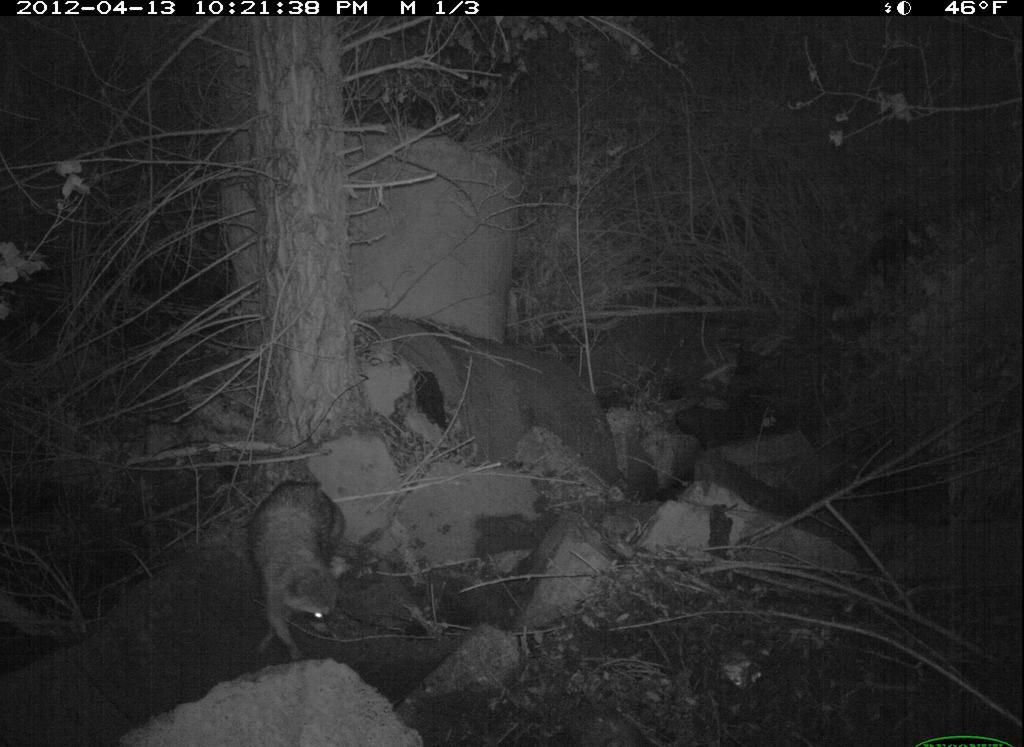raccoon: (241, 465, 369, 658)
